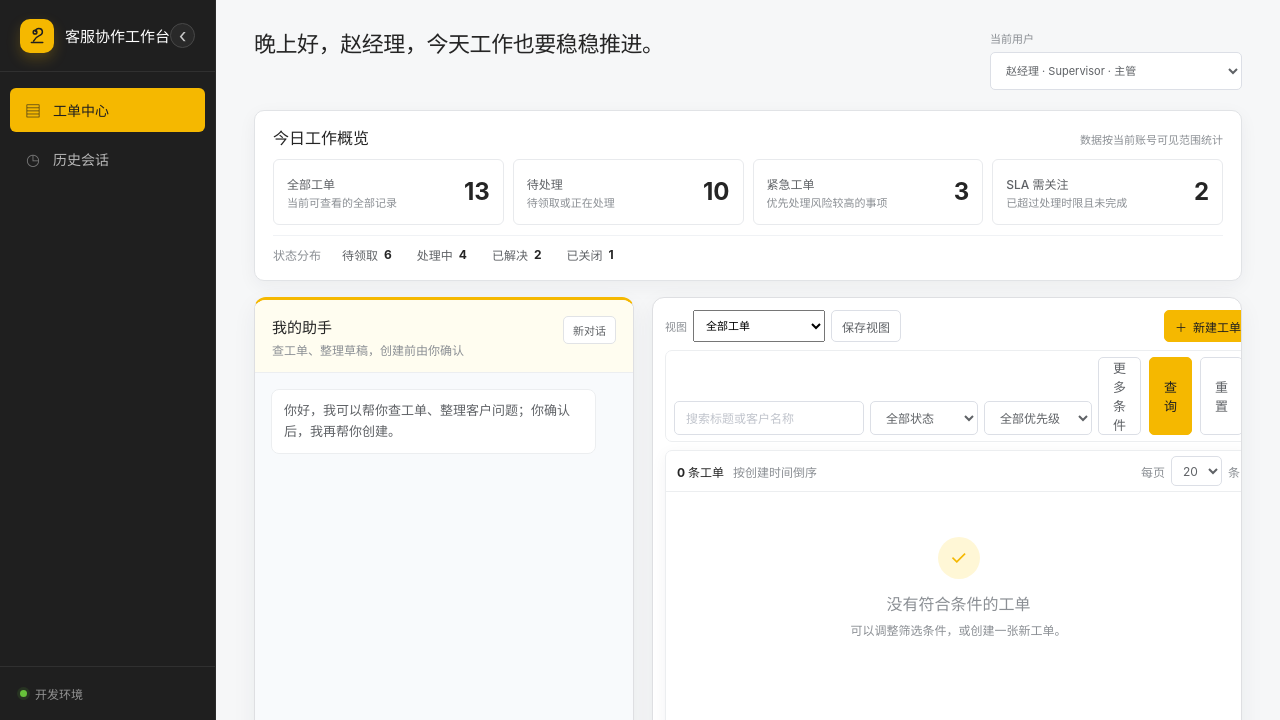
Test: App identity bootstrap › restores the selected user and switches identity through the API
Select "王芳 · Agent · 客服" in the dropdown named "切换当前用户" at [1116, 71], box [990,52,1242,90]
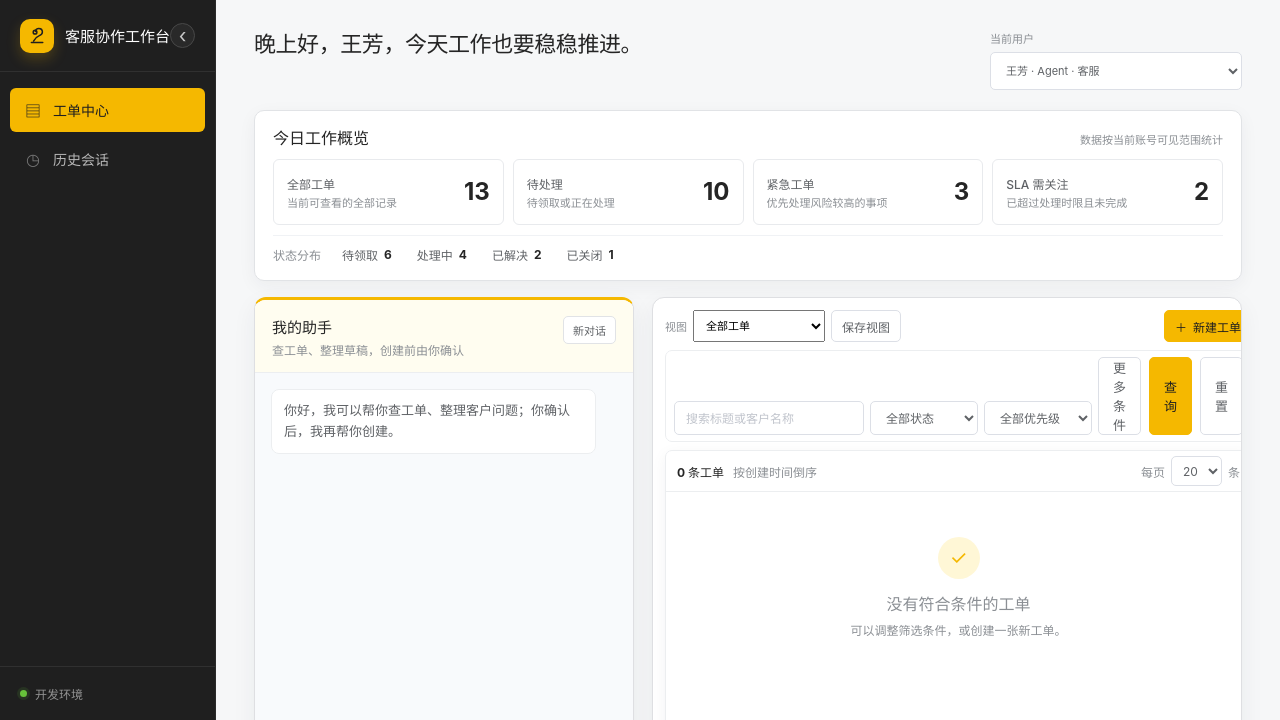
Check: the text "晚上好，王芳，今天工作也要稳稳推进。" is shown, box [254,30,642,60]
